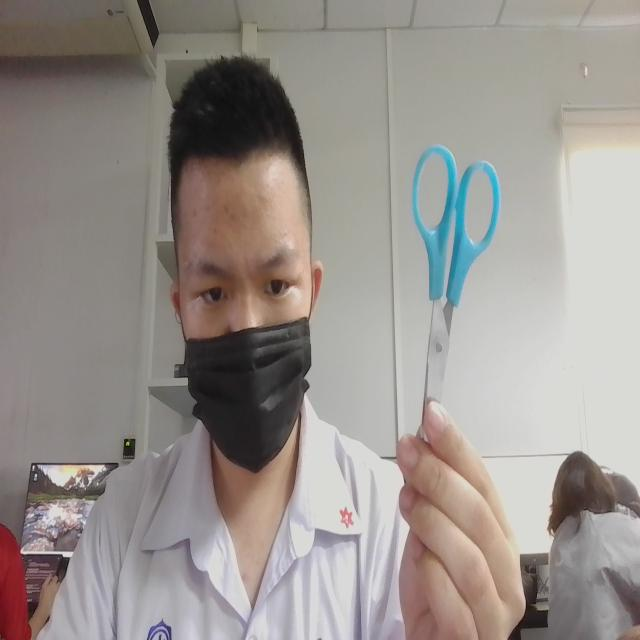scissors: (403, 136, 507, 428)
